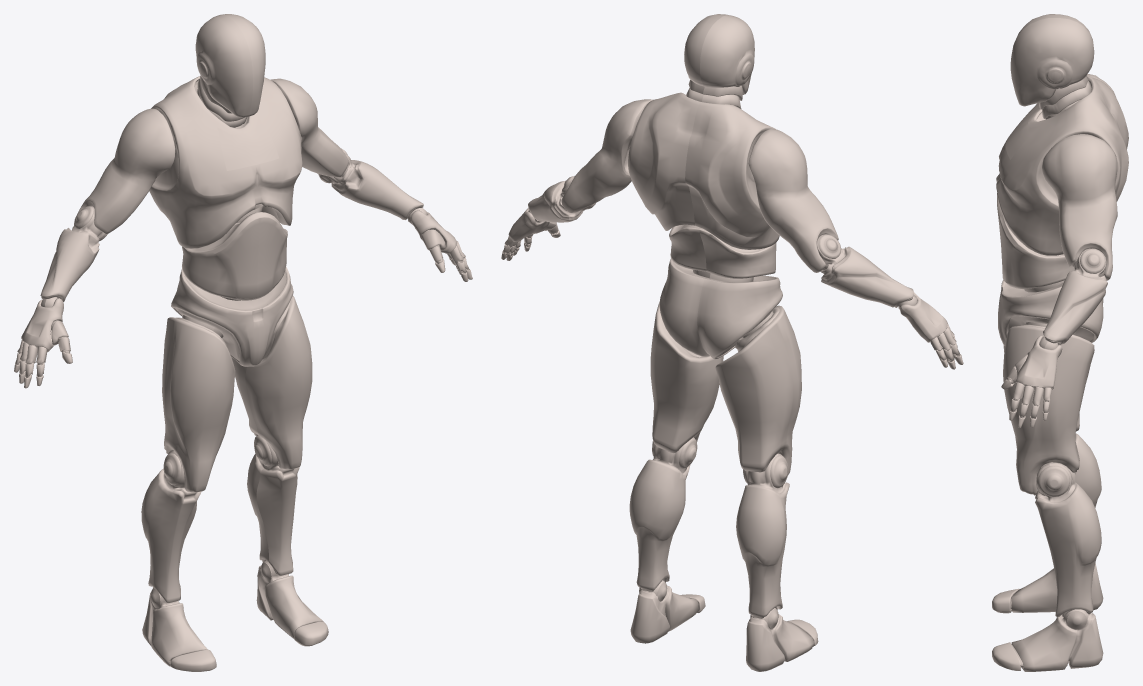
Rendered from UE_Character.fbx.
3 views of the same model, side by side, from view 1: azimuth 30°, elevation 25°; view 2: azimuth 150°, elevation 25°; view 3: azimuth 270°, elevation 25° (orthographic).
Visible parts, largest first — view 1: Geom_Character_Size; view 2: Geom_Character_Size; view 3: Geom_Character_Size.
Part boxes in pixels (box(x1,y1,x2,y2)): Geom_Character_Size: box(14, 14, 472, 671); Geom_Character_Size: box(501, 14, 963, 671); Geom_Character_Size: box(992, 14, 1128, 671).
Size of the model in its own units: 139 by 183 by 36.72.
